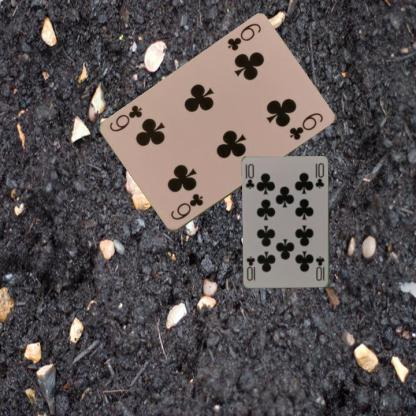10c: (313, 254, 326, 282), (244, 161, 256, 190)
6c: (224, 20, 262, 52), (168, 191, 204, 222)
